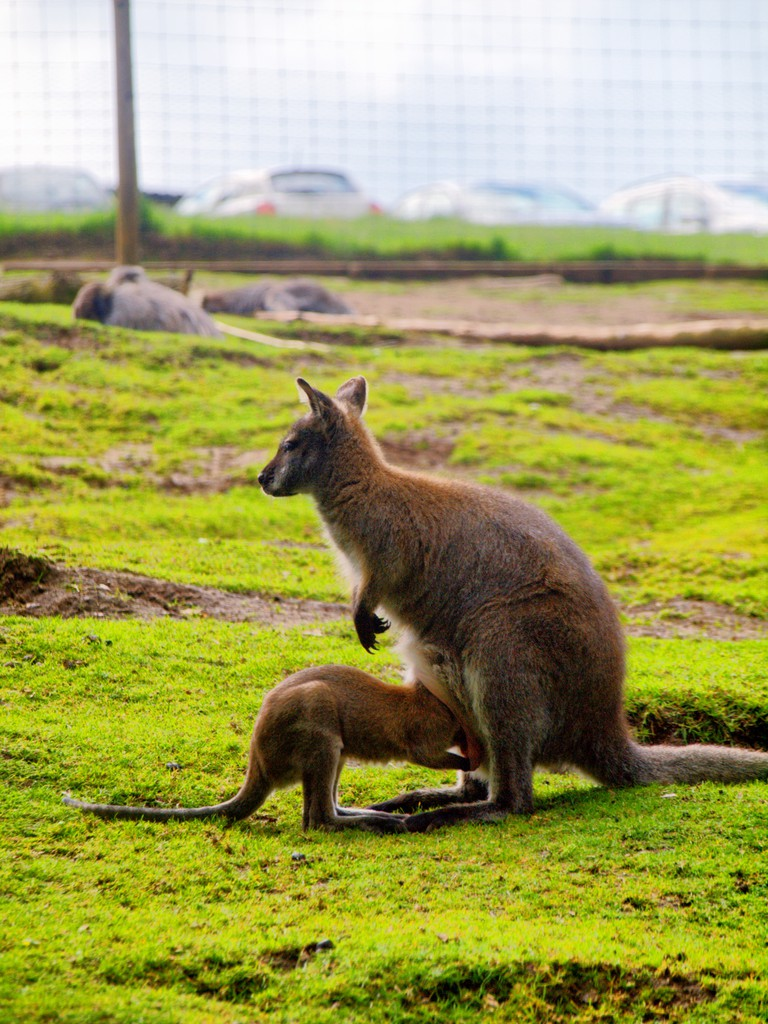kangaroo: (259, 371, 768, 825), (67, 655, 489, 855)
